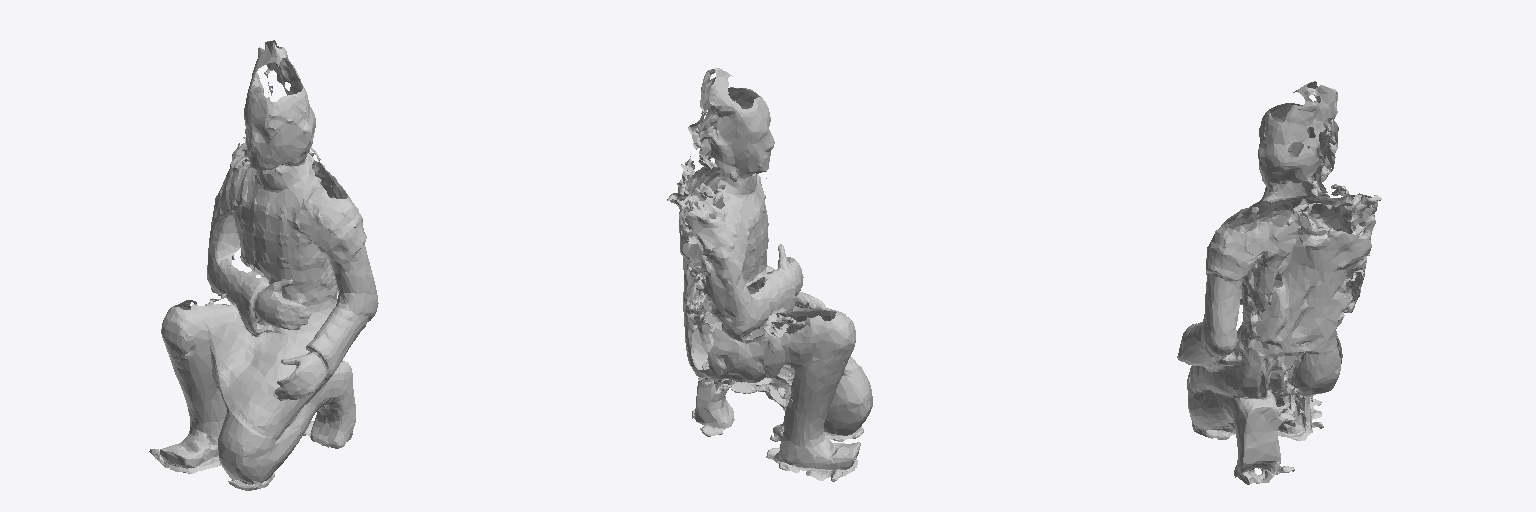
Rendered from terracota_lowpoly.obj.
The picture shows the model from 3 angles: view 1: azimuth 30°, elevation 25°; view 2: azimuth 150°, elevation 25°; view 3: azimuth 270°, elevation 25°; orthographic projection.
Size of the model in its own units: 2.56 by 5.14 by 2.49.